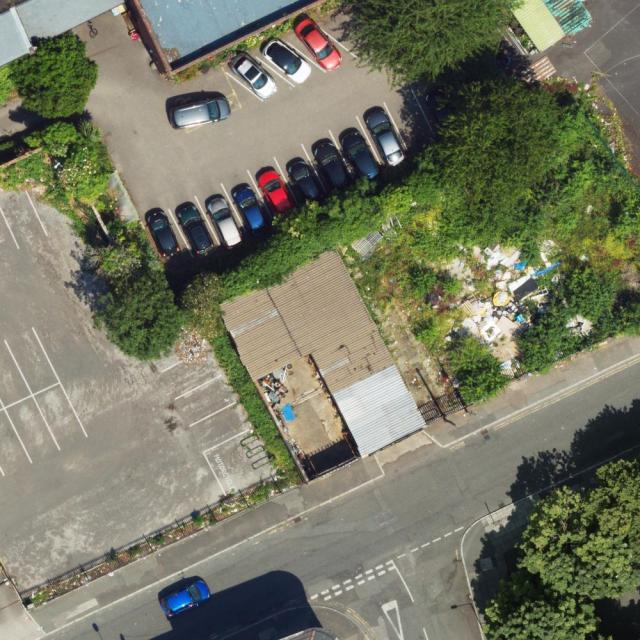roof: (216, 241, 431, 461), (0, 0, 332, 80)
